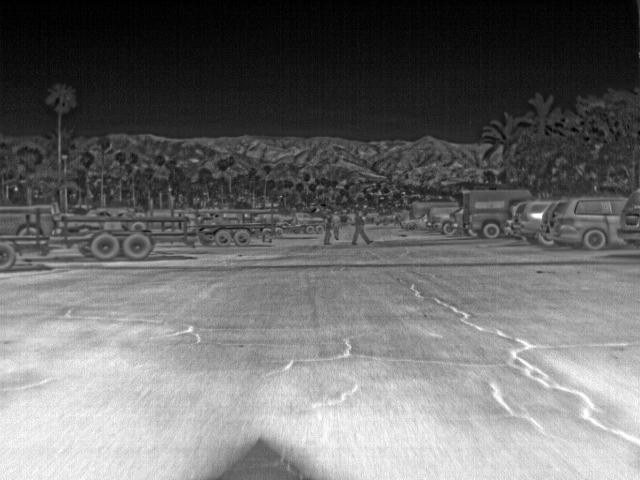car: (545, 195, 627, 252), (509, 198, 554, 246), (618, 185, 639, 251), (432, 210, 461, 235), (426, 204, 459, 220), (400, 212, 427, 229), (294, 211, 325, 224)
person: (351, 208, 374, 246), (322, 211, 335, 245), (330, 210, 343, 240)
